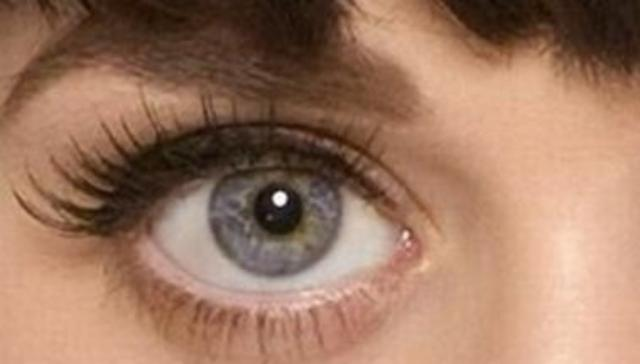eye: (207, 163, 345, 279)
